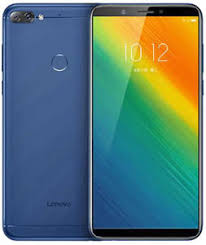lenovo: (1, 4, 201, 242), (88, 1, 201, 240)
